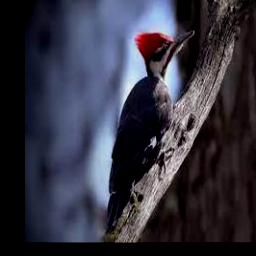Woodpecker: (106, 30, 194, 231)
